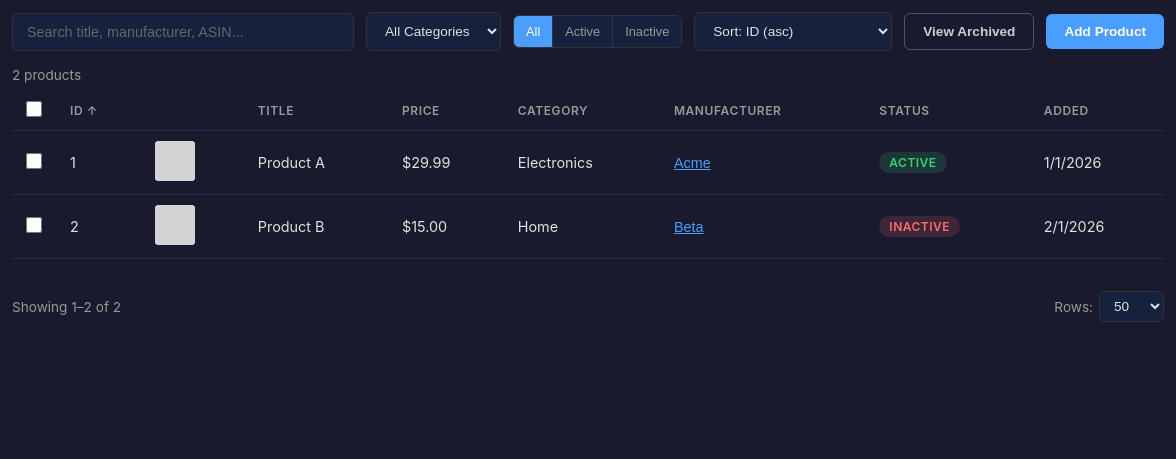
Test: AdminProductsPage › shows error state when bulkSetProductStatus fails
Click the checkbox with test id "select-all" at (34, 109), box [26,101,42,117]
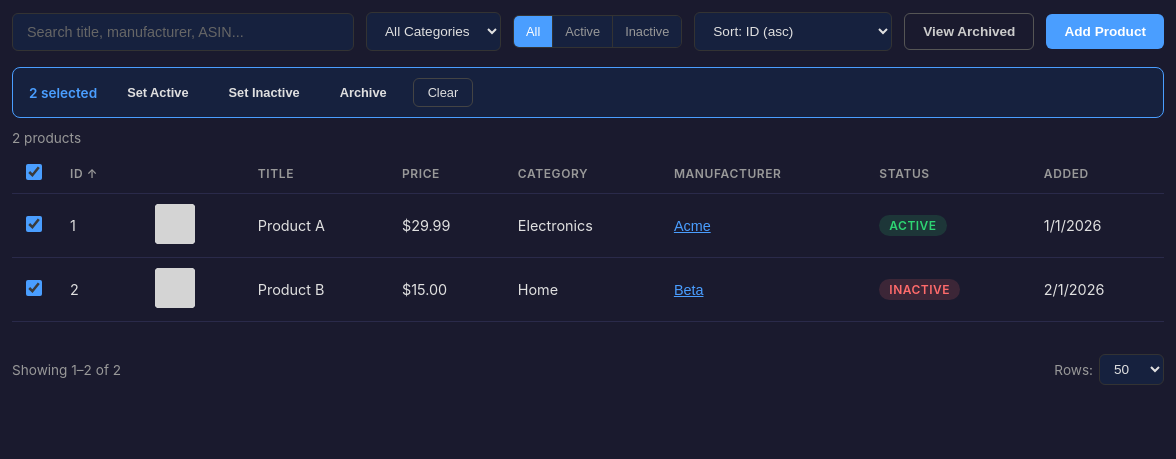
Now the button with test id "bulk-activate" is shown
Click the button with test id "bulk-activate" at (158, 92), box [113,79,202,106]
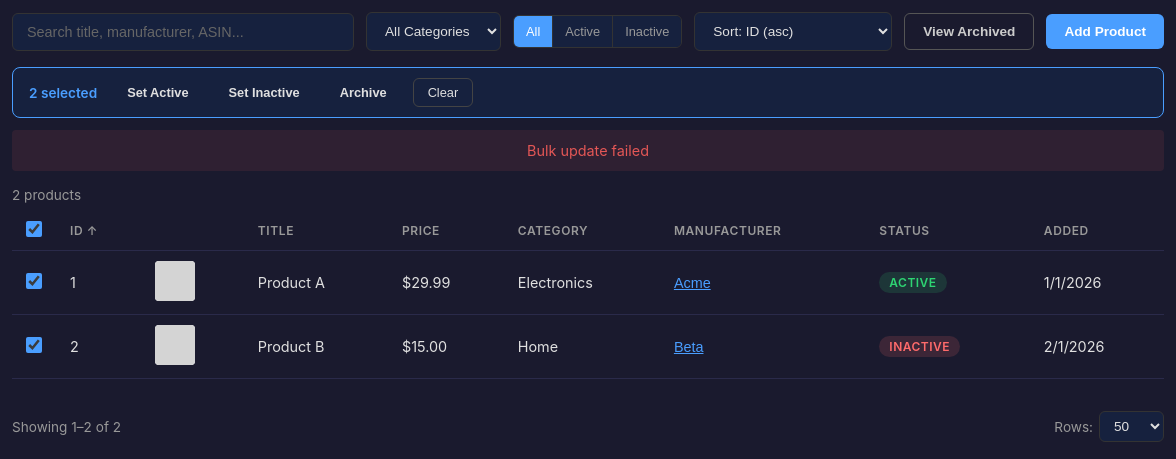
Now the text "Bulk update failed" is shown, box [12,130,1164,171]
